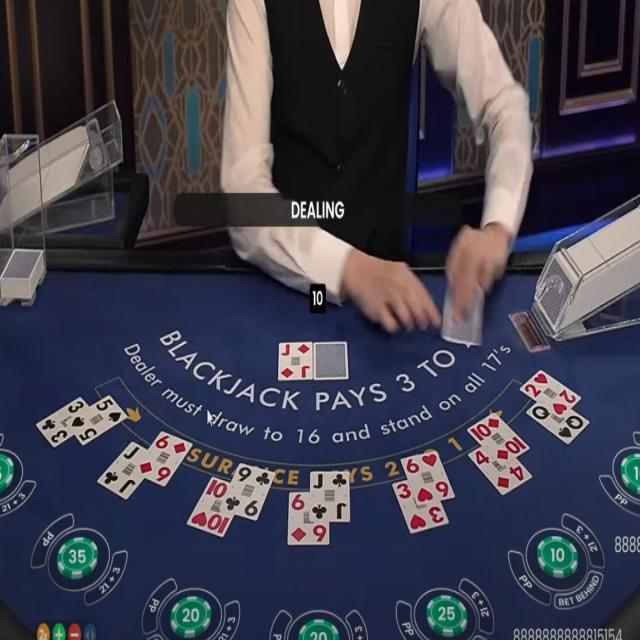Card-10: (467, 412, 530, 466), (187, 476, 234, 538)
Card-2: (519, 369, 582, 418)
Card-3: (392, 480, 449, 534), (36, 395, 89, 448)
Card-4: (468, 446, 533, 495)
Card-5: (66, 394, 127, 446)
Card-6: (134, 429, 193, 487), (400, 450, 455, 506), (288, 491, 329, 545)
Card-9: (220, 462, 275, 522)
Card-J: (97, 441, 146, 500), (310, 471, 349, 522), (278, 341, 313, 381)
Card-Q: (526, 403, 590, 445)
